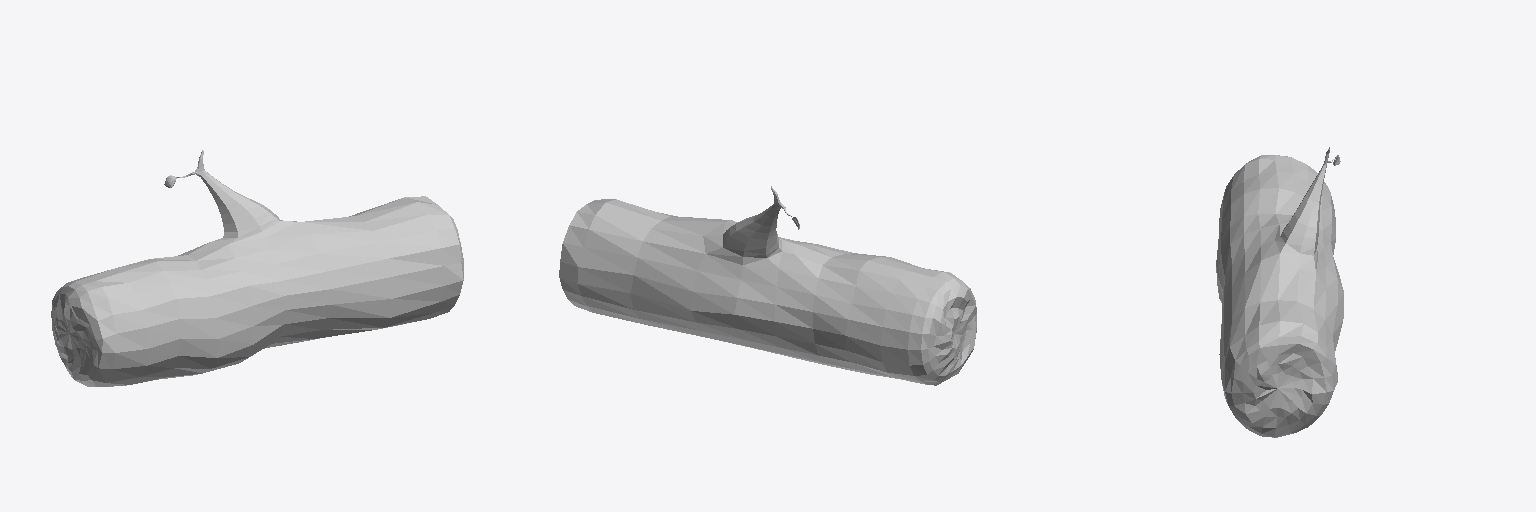
Rendered from log2.obj.
The picture shows the model from 3 angles: view 1: azimuth 30°, elevation 25°; view 2: azimuth 150°, elevation 25°; view 3: azimuth 270°, elevation 25°; orthographic projection.
Visible parts, largest first — view 1: pCylinder1; view 2: pCylinder1; view 3: pCylinder1.
Boxes of the visible parts, x1=… form: pCylinder1: x1=51, y1=150, x2=463, y2=386; pCylinder1: x1=559, y1=186, x2=976, y2=385; pCylinder1: x1=1216, y1=147, x2=1343, y2=437.
Bounding box in the file's own units: 7.41 × 3.53 × 2.15.